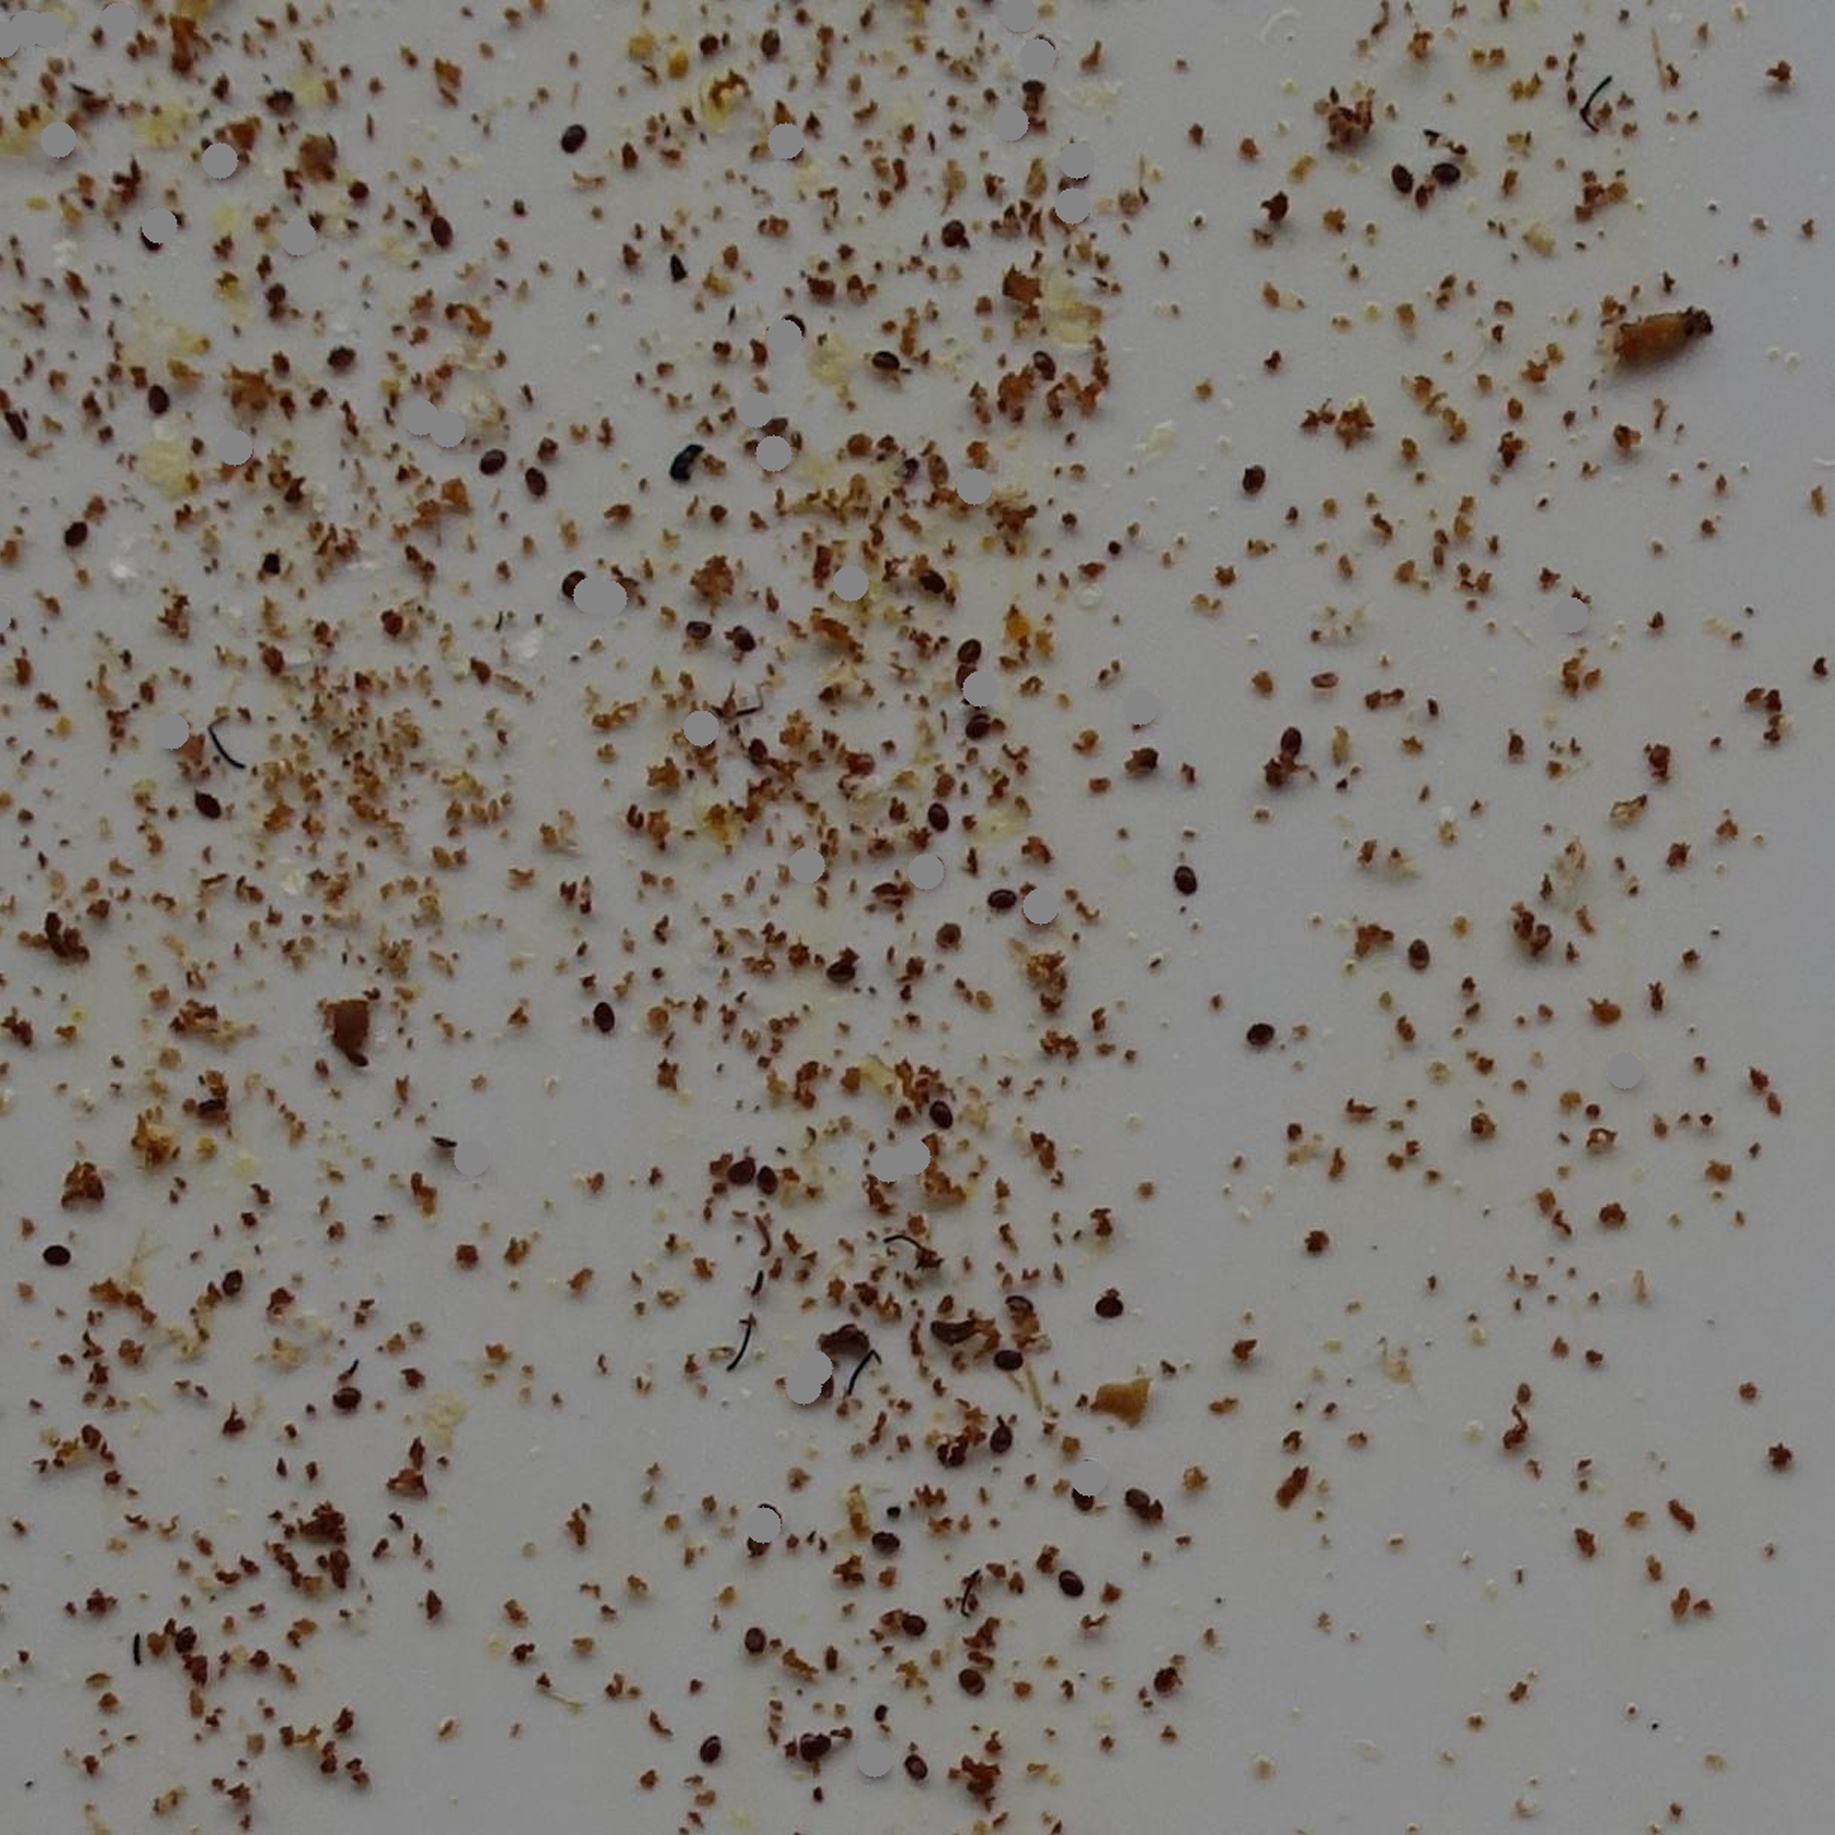Varroa: (54, 509, 97, 553), (1238, 459, 1270, 491), (993, 1343, 1023, 1375), (723, 1158, 753, 1188), (755, 29, 785, 57), (1151, 1664, 1180, 1692), (563, 570, 592, 598), (798, 1734, 827, 1763), (869, 353, 897, 381), (328, 344, 355, 375), (1428, 161, 1455, 192), (1275, 724, 1302, 755), (965, 639, 991, 669), (558, 123, 585, 151), (953, 660, 980, 689), (960, 712, 986, 741), (1390, 165, 1417, 193), (744, 1627, 771, 1654), (1005, 1296, 1032, 1322), (213, 1274, 240, 1301), (991, 889, 1018, 916), (828, 961, 855, 988), (756, 1165, 783, 1191), (916, 565, 943, 592), (1126, 1485, 1153, 1512), (331, 1386, 356, 1413), (1166, 860, 1191, 887), (928, 1106, 953, 1133), (198, 786, 223, 813), (897, 1612, 923, 1638), (1070, 1485, 1096, 1512), (1245, 1028, 1270, 1055), (874, 1533, 899, 1558), (749, 734, 775, 760), (40, 1230, 66, 1255), (1096, 1292, 1121, 1317), (686, 618, 711, 644), (171, 1618, 197, 1643), (907, 1759, 933, 1785), (943, 218, 968, 244), (1059, 1568, 1082, 1595), (1406, 938, 1430, 965), (960, 1670, 983, 1696), (1030, 353, 1054, 378), (138, 230, 161, 255), (151, 392, 175, 417), (733, 630, 756, 655), (943, 923, 966, 948), (427, 218, 450, 244), (990, 1423, 1013, 1447), (171, 1638, 195, 1662), (486, 459, 507, 482), (524, 469, 546, 492), (701, 1739, 723, 1763), (592, 1005, 613, 1027), (765, 1502, 786, 1524), (924, 808, 944, 830), (790, 318, 807, 336)
